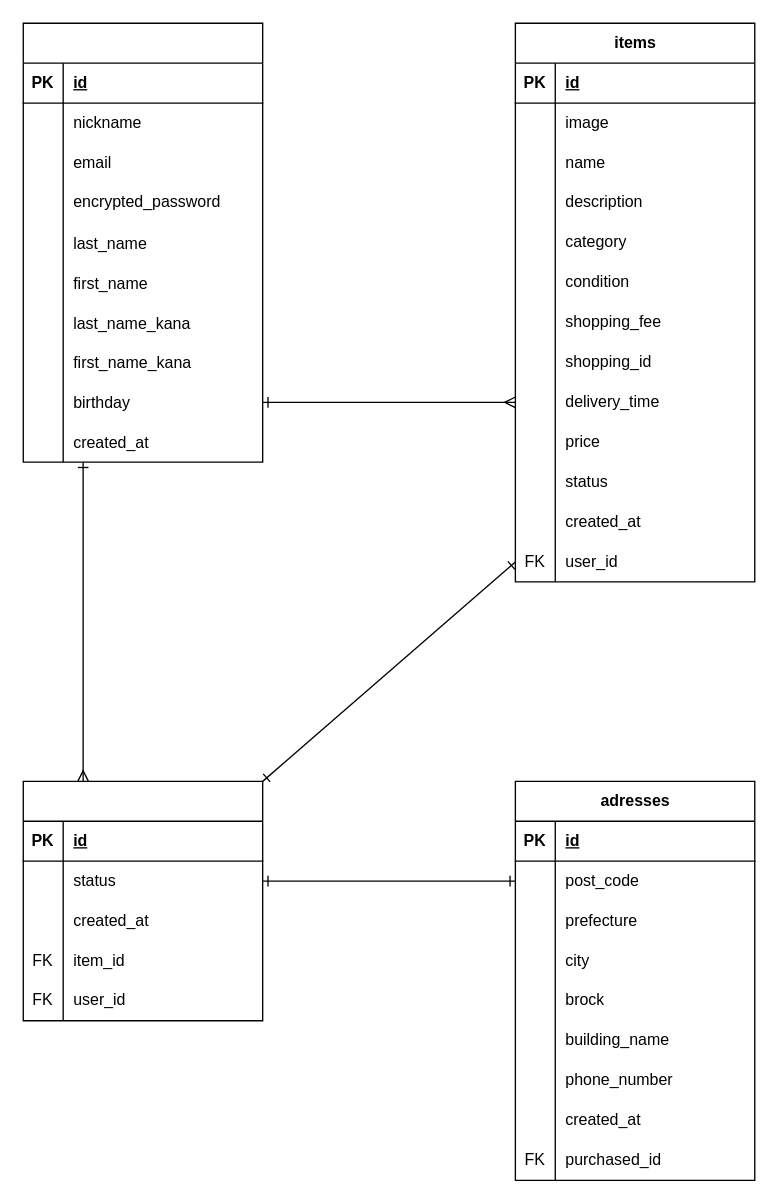
This 778x1204 diagram has some shape labels left out. Each missing label, with the box of its shape:
purshases: (22, 780, 263, 1021)
users: (22, 22, 263, 462)
